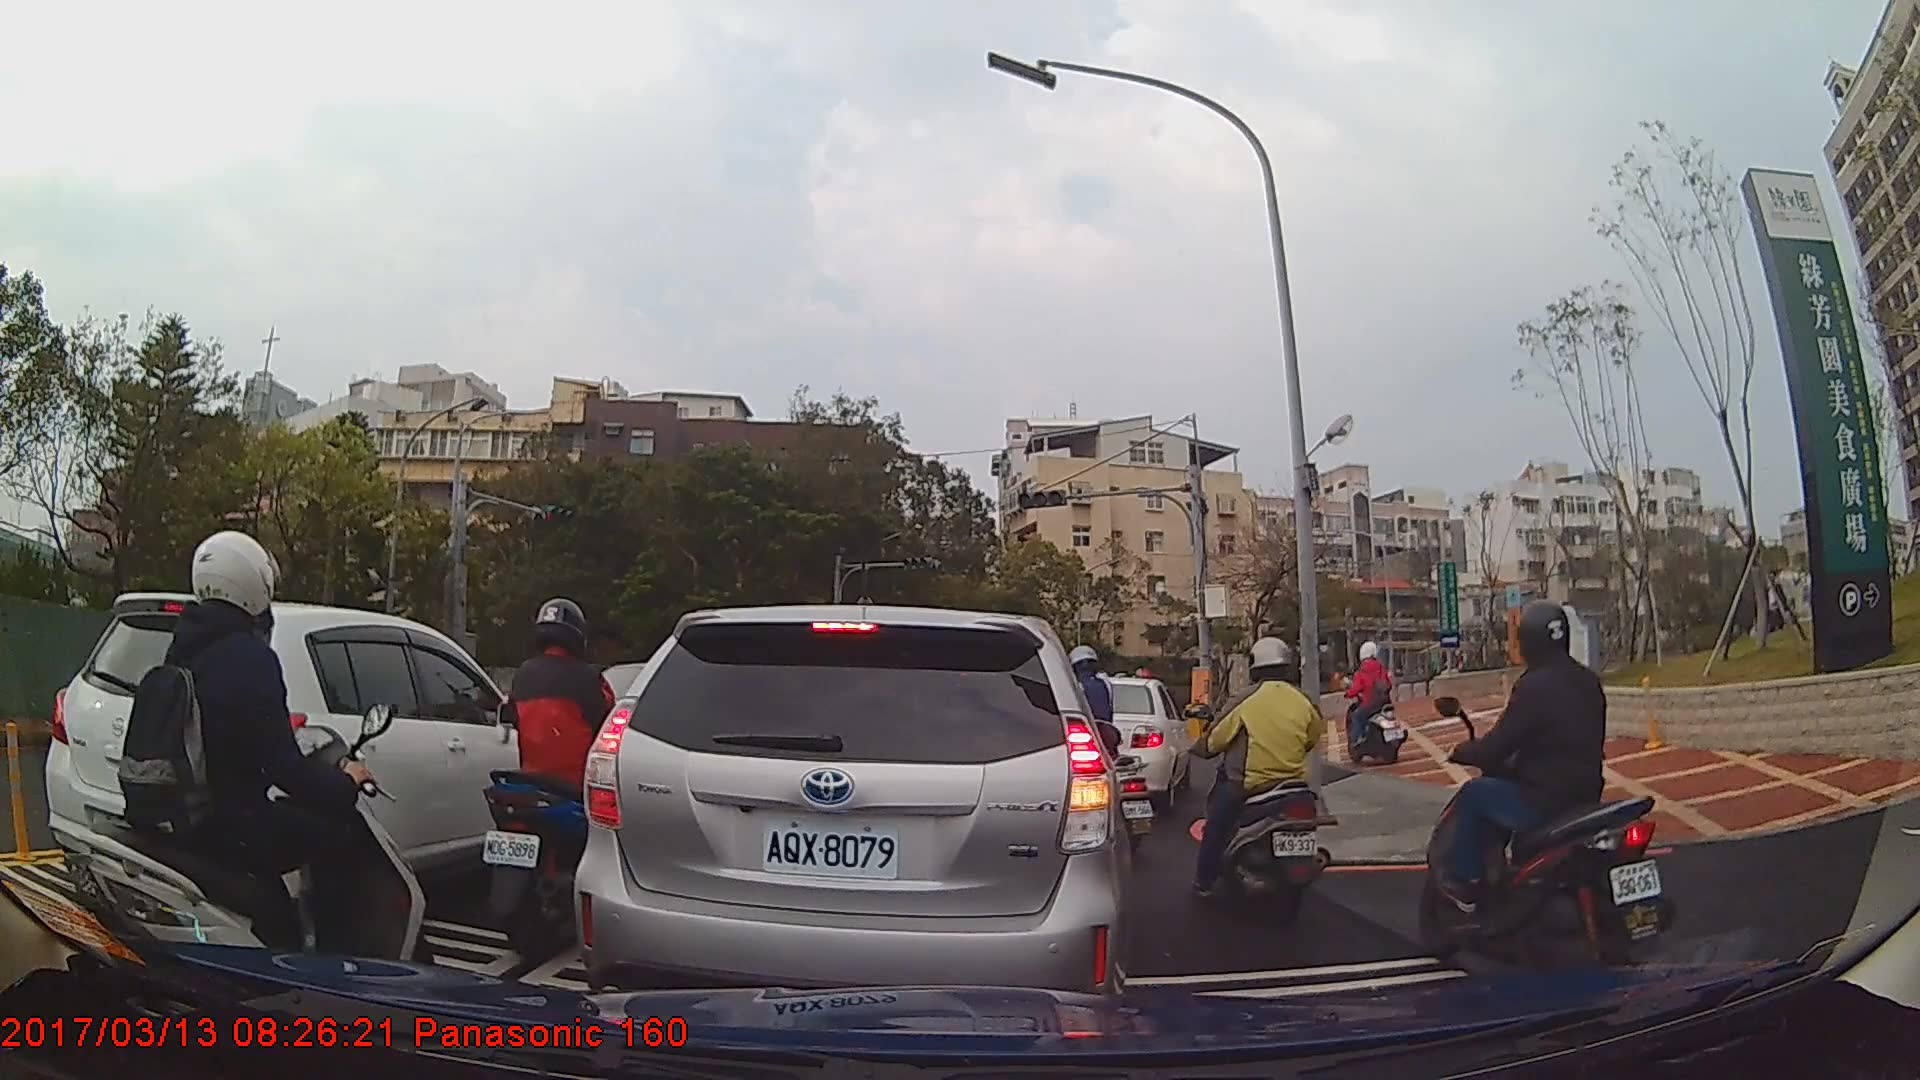pedestrian: (1753, 561, 1795, 636), (1748, 575, 1782, 638)
rider: (48, 528, 433, 1034), (1416, 597, 1671, 992), (476, 594, 643, 960), (1186, 635, 1328, 910), (1333, 639, 1406, 763)
vehicle: (572, 602, 1132, 1021), (42, 591, 577, 923), (1064, 674, 1193, 815)
